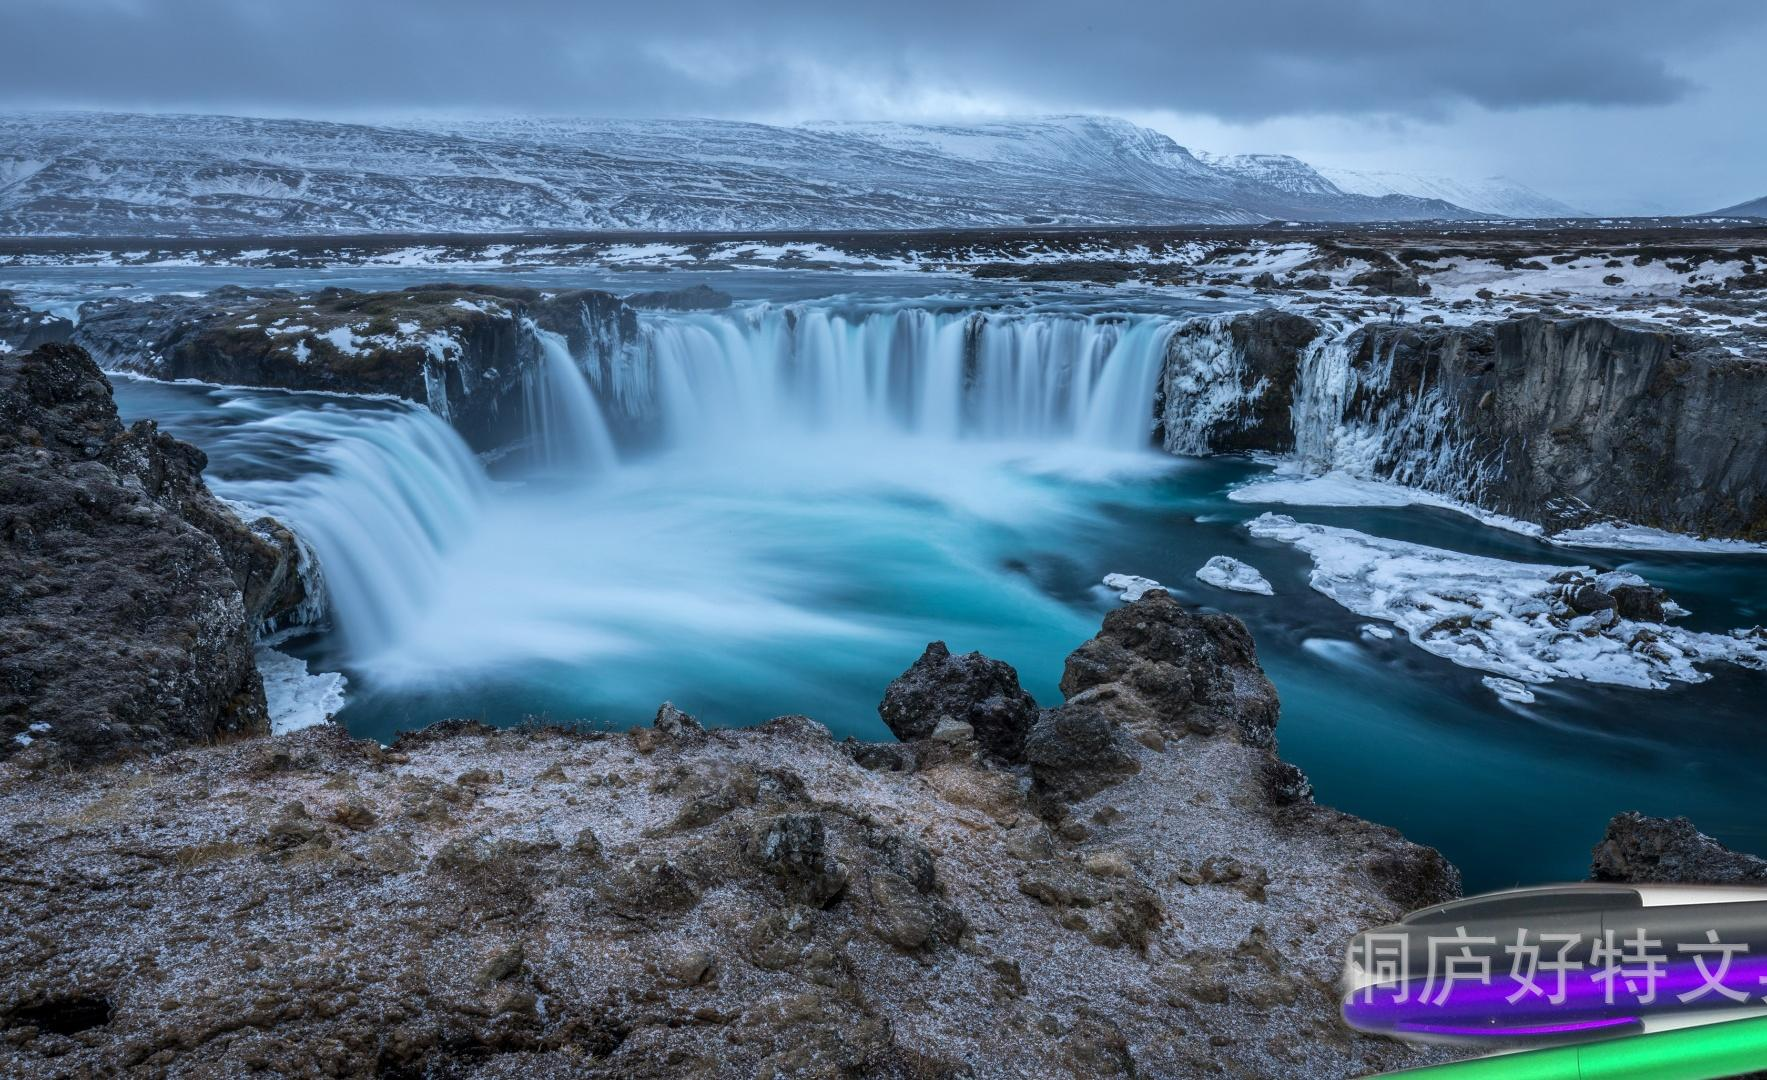penholder: (1299, 679, 1767, 1080)
